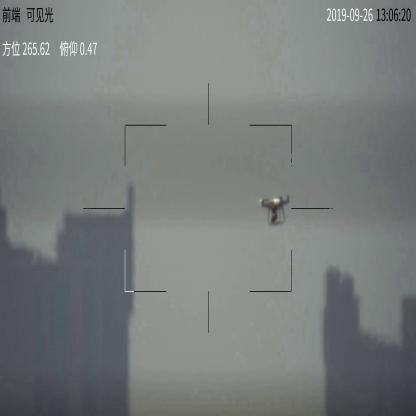uav: (257, 195, 299, 226)
